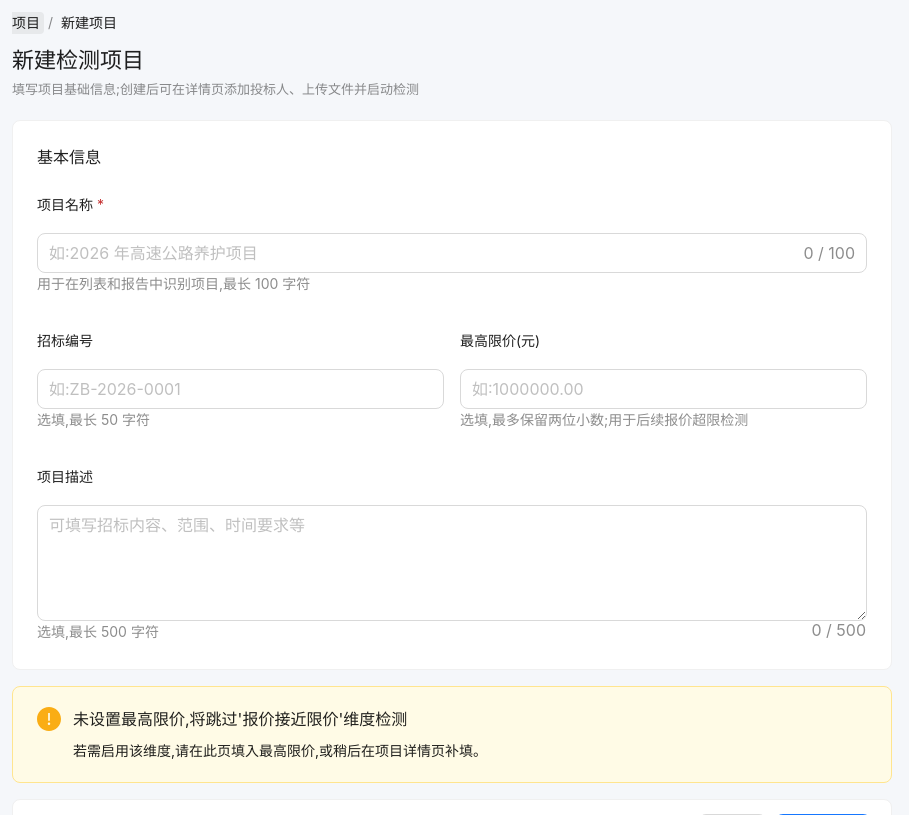
Test case: ProjectCreatePage › 填入 max_price 后提示文案消失
This screenshot has width=909, height=815.
Type "100" into the field with test id "create-max-price".
click(664, 389); type("100")  # box [460,369,867,409]
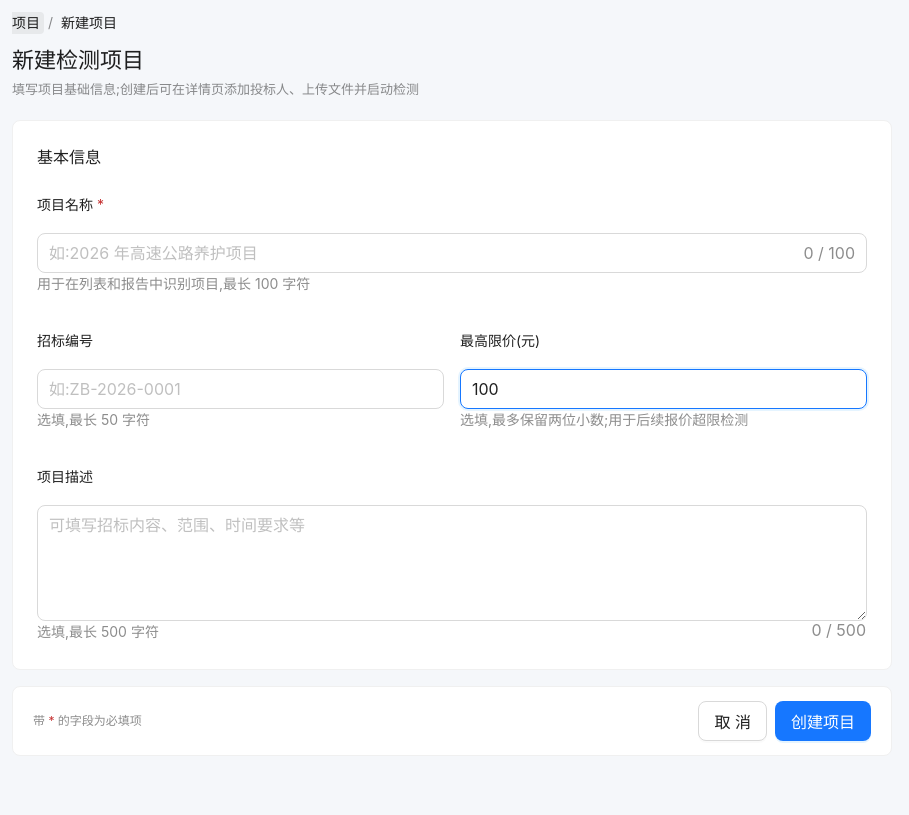
Now the message with test id "no-max-price-hint" is gone
